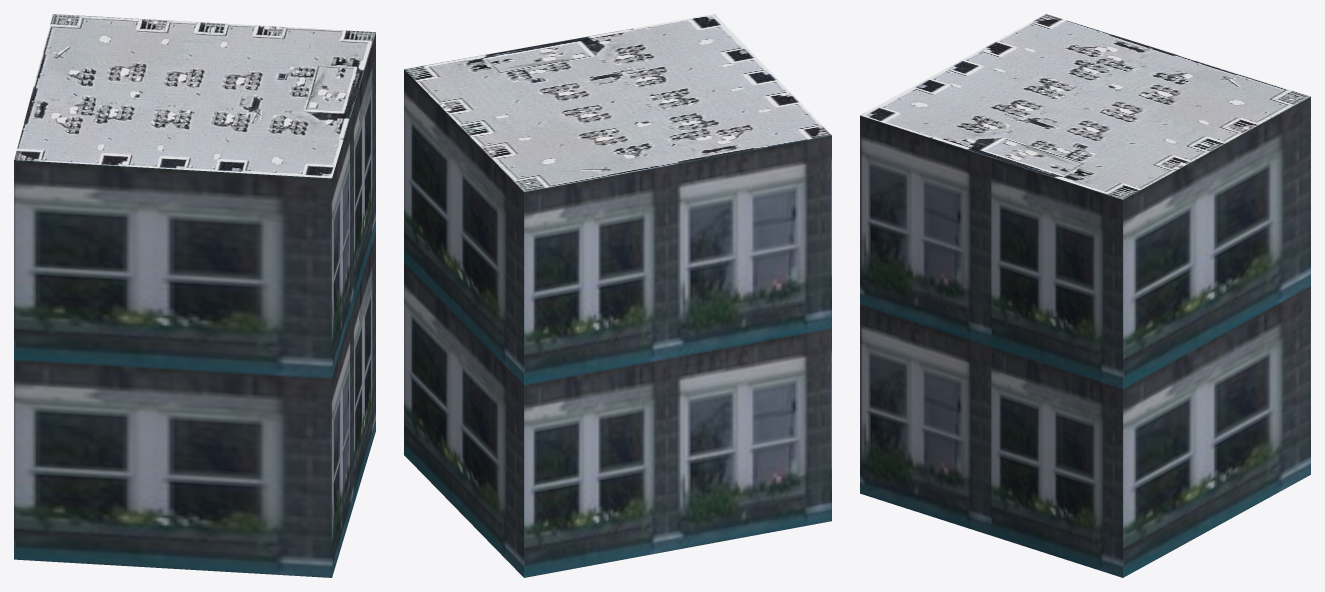
File: ResTex__4701.fbx
3 views of the same model, side by side, from view 1: azimuth 30°, elevation 25°; view 2: azimuth 150°, elevation 25°; view 3: azimuth 270°, elevation 25° (orthographic). The views are drawn at different scales.
Parts seen in each view (by area): view 1: CityEngineMaterial_11_m, CityEngineMaterial_8_m; view 2: CityEngineMaterial_11_m, CityEngineMaterial_8_m; view 3: CityEngineMaterial_11_m, CityEngineMaterial_8_m.
Boxes of the visible parts, x1,y1,x2,y2 form: CityEngineMaterial_11_m: (14, 32, 375, 577); CityEngineMaterial_8_m: (14, 14, 375, 178); CityEngineMaterial_11_m: (404, 69, 831, 577); CityEngineMaterial_8_m: (404, 14, 831, 191); CityEngineMaterial_11_m: (860, 96, 1310, 577); CityEngineMaterial_8_m: (860, 14, 1310, 199).
Size of the model in its own units: 6.32 by 6 by 6.48.
2 materials, 2 textured.
